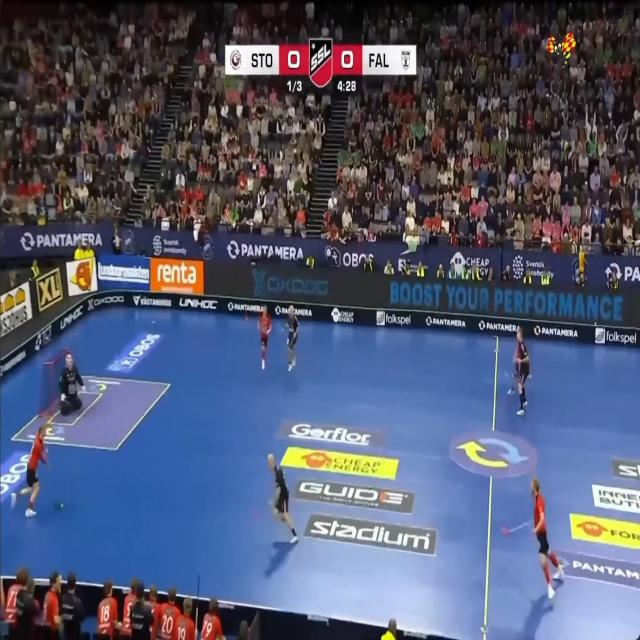player: (531, 478, 563, 597), (11, 424, 47, 517), (268, 453, 297, 542), (58, 353, 85, 414), (515, 326, 529, 414), (259, 306, 272, 369), (286, 304, 298, 371)
stick: (501, 521, 531, 534)
